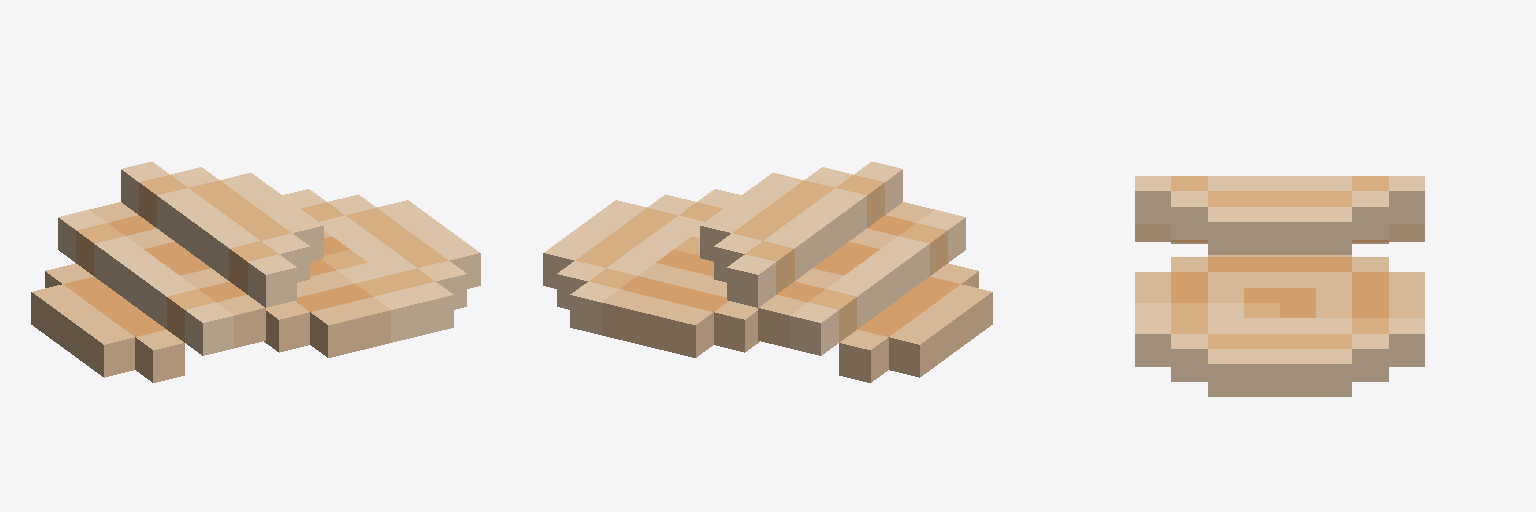
3 views of the same model, side by side, from view 1: azimuth 30°, elevation 25°; view 2: azimuth 150°, elevation 25°; view 3: azimuth 270°, elevation 25° (orthographic).
Parts seen in each view (by area): view 1: object 1; view 2: object 1; view 3: object 1.
Part boxes in pixels (x1,y1,x2,y2): object 1: (31,162,480,382); object 1: (543,162,992,382); object 1: (1135,176,1424,396).
Size of the model in its own units: 1.2 by 0.3 by 0.8.
1 materials, 1 textured.